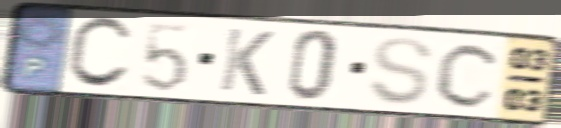0: (288, 27, 346, 104)
5: (138, 20, 193, 93)
C: (63, 14, 137, 92), (432, 40, 505, 111)
K: (216, 25, 277, 99)
S: (365, 34, 437, 108)
